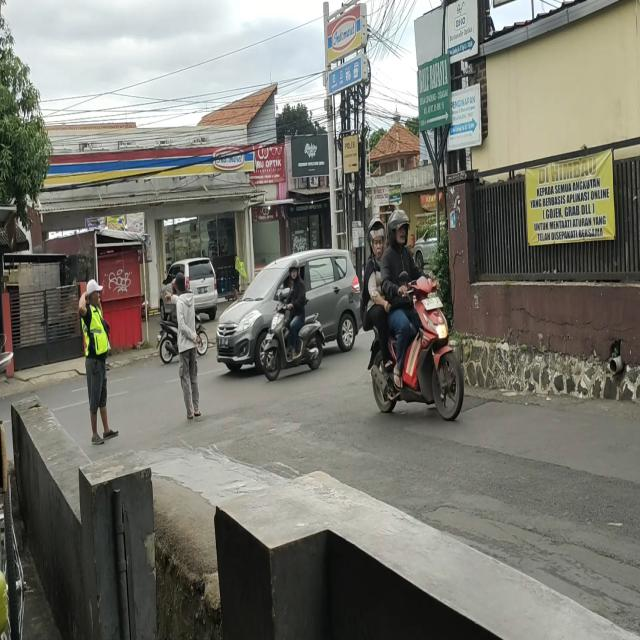helmet: (390, 212, 409, 246), (369, 219, 384, 258), (289, 258, 300, 279)
